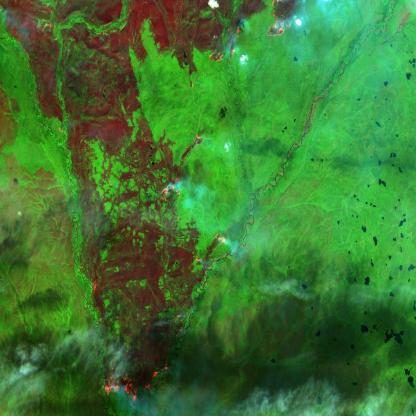fire: (199, 0, 293, 66), (156, 128, 211, 210), (98, 357, 176, 405), (194, 226, 232, 272)
